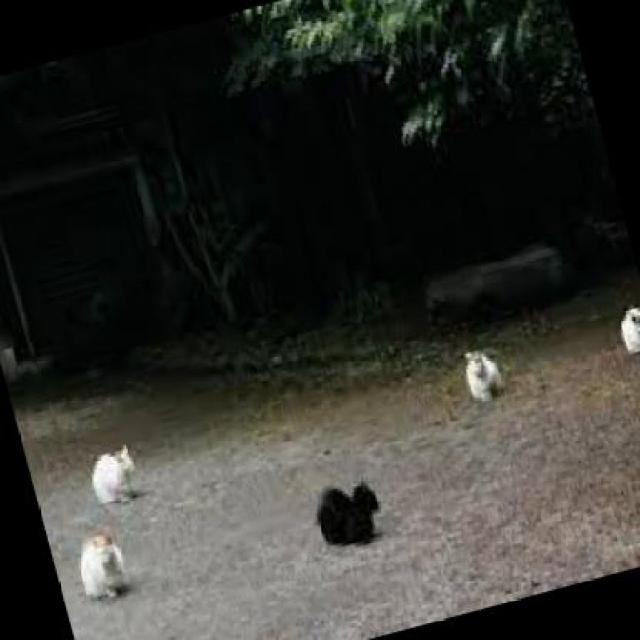animals: (300, 462, 394, 556), (64, 516, 144, 610), (75, 434, 150, 520), (448, 332, 518, 408), (597, 291, 638, 366)
